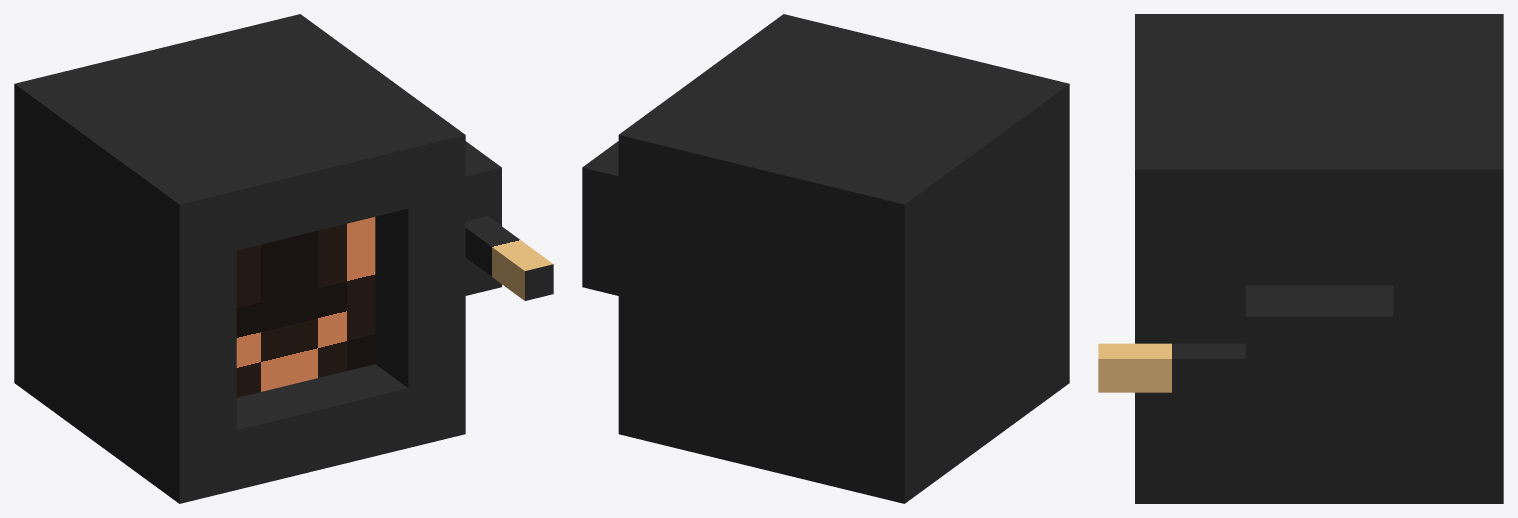
The model's file is Small Turret.obj.
The picture shows the model from 3 angles, left to right: view 1: azimuth 30°, elevation 25°; view 2: azimuth 150°, elevation 25°; view 3: azimuth 270°, elevation 25°; orthographic projection. The views are drawn at different scales.
Visible parts, largest first — view 1: cuboid, cube; view 2: cuboid, cube; view 3: cuboid, cube.
Boxes of the visible parts, x1,y1,x2,y2 form: cuboid: (14, 14, 465, 503); cube: (465, 141, 553, 300); cuboid: (618, 14, 1069, 503); cube: (582, 141, 618, 295); cuboid: (1135, 14, 1503, 503); cube: (1098, 285, 1393, 450).
Size of the model in its own units: 0.4062 by 0.3125 by 0.3438.
